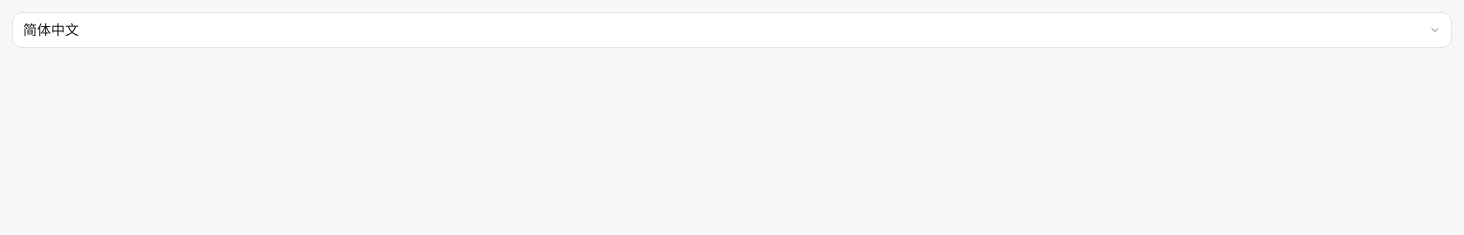
Test: Select › 点击展开后能看到全部选项
Click the button.
click(51, 30)  # box [12,12,1452,48]
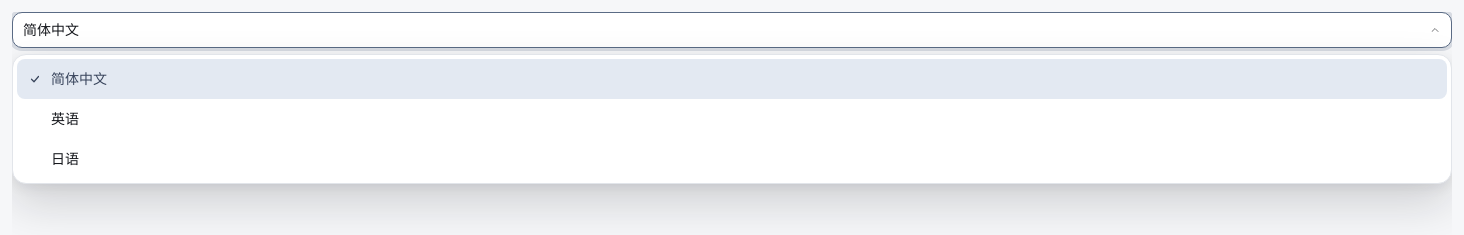
expect the 1st text "简体中文" is shown: met, box [23,21,79,38]
expect the list is shown: met, box [12,54,1452,184]
expect the text "日语" is shown: met, box [51,150,79,167]
